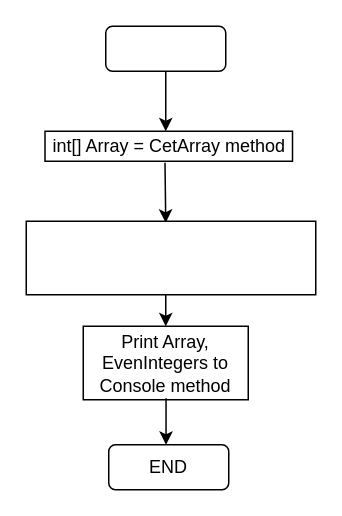
Image size: 342x516. Some labels were removed from this diagram. The centre of each missing label's shape, as x and y in pixels:
"int [] EvenIntegers = GetEvenIntegers method (int [] Array)" belongs at (170,257).
"START" belongs at (165,48).
